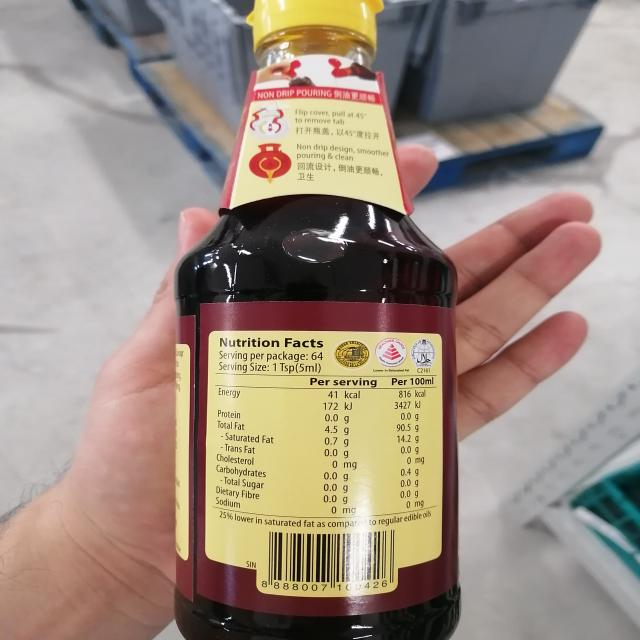object_name: (182, 7, 456, 640)
